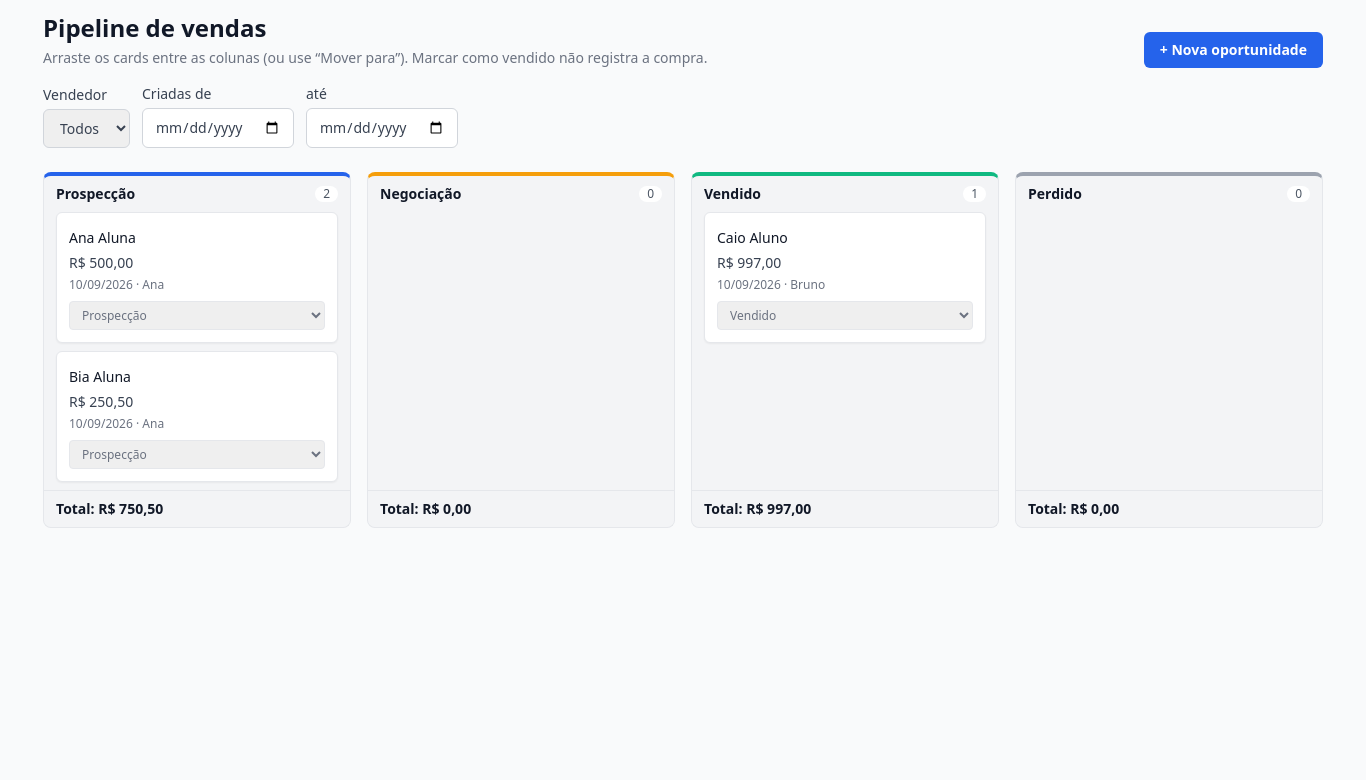
Scenario: pipeline › se a API recusar, o card volta para a coluna de origem
The width and height of the screenshot is (1366, 780).
expect the button "Ana Aluna" is shown: met, box [69,228,136,248]
Select "Perdido" in the dropdown named "Mover Ana Aluna para" below "R$ 500,00" at (197, 316), box [69,301,325,330]
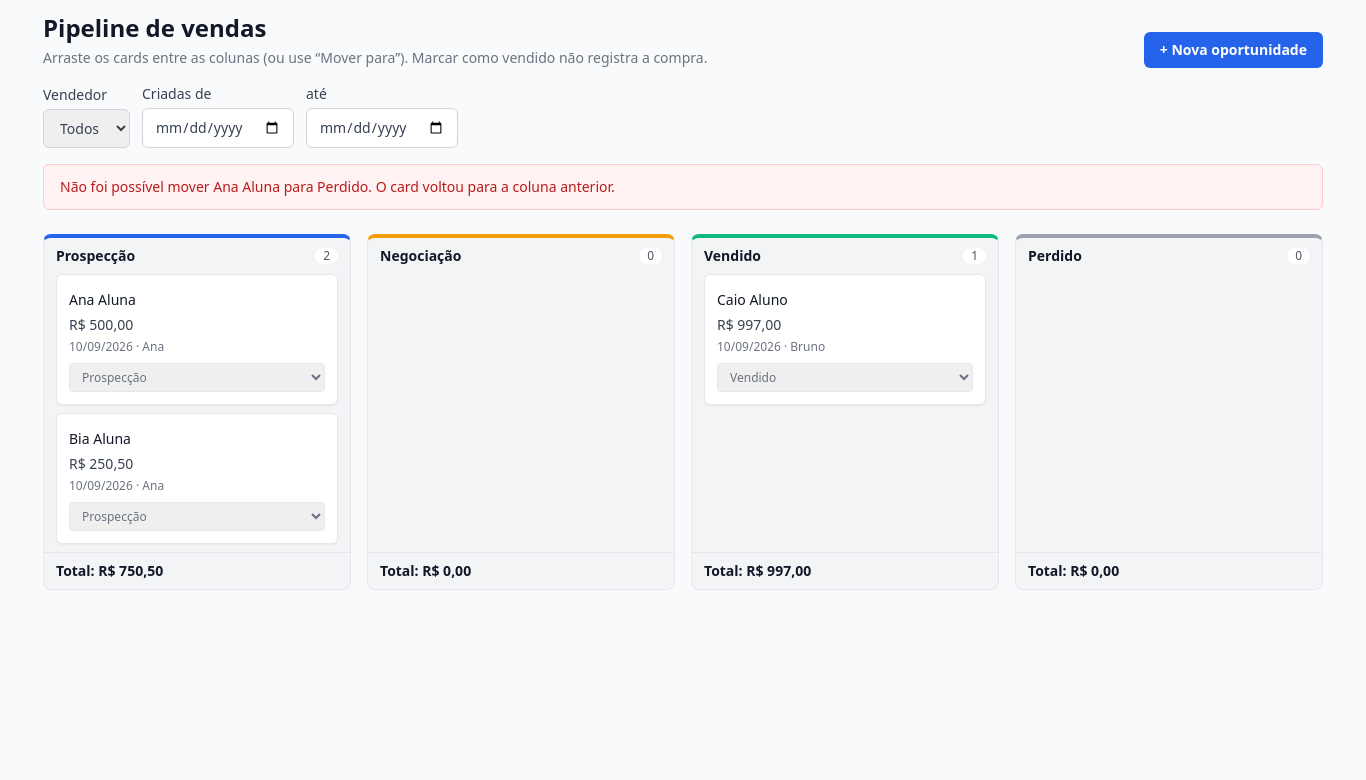
expect the text "O card voltou para a coluna anterior" is shown: met, box [60,177,615,196]
